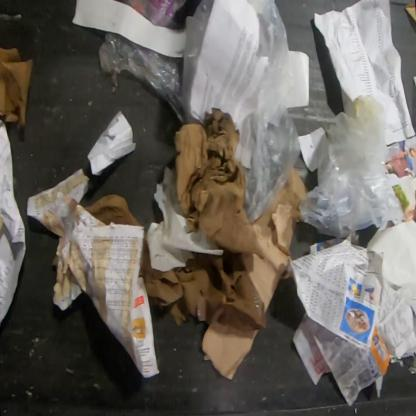cardboard: (174, 107, 252, 254), (242, 171, 310, 315), (201, 321, 260, 381), (0, 47, 32, 129)
soft_plastic: (242, 0, 301, 224), (300, 95, 391, 240), (98, 30, 189, 124), (181, 0, 215, 124), (113, 0, 190, 31)
